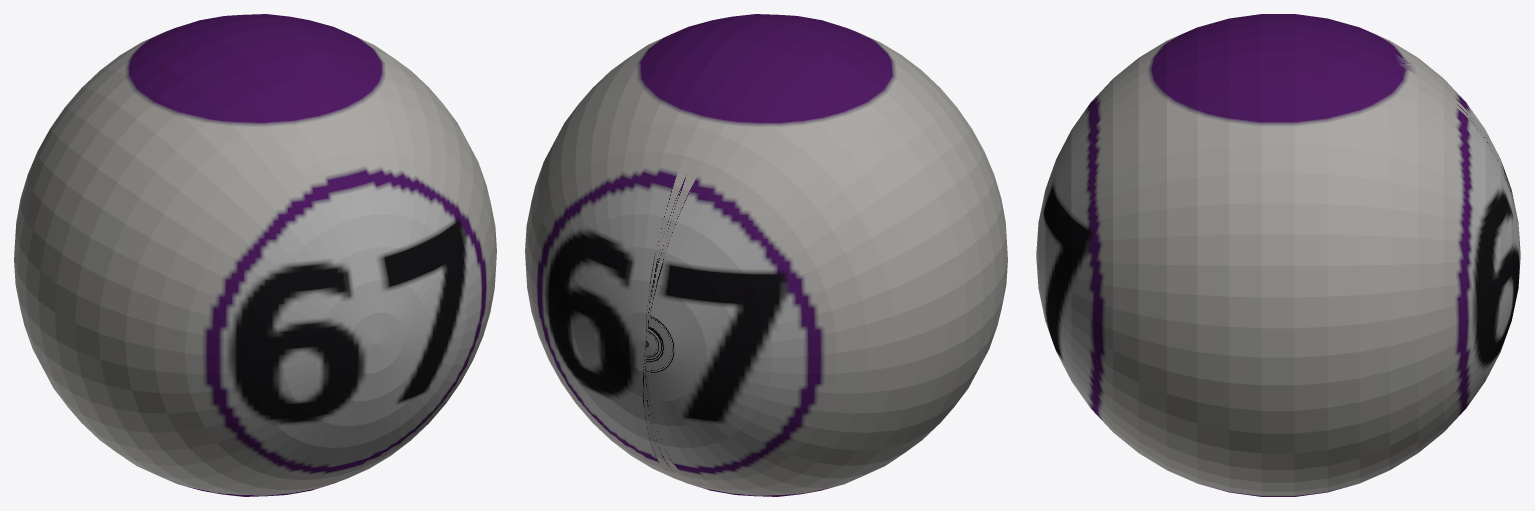
3 views of the same model, side by side, from view 1: azimuth 30°, elevation 25°; view 2: azimuth 150°, elevation 25°; view 3: azimuth 270°, elevation 25° (orthographic).
Visible parts, largest first — view 1: geometry_0; view 2: geometry_0; view 3: geometry_0.
Boxes of the visible parts, x1=… form: geometry_0: x1=14, y1=14, x2=496, y2=496; geometry_0: x1=525, y1=14, x2=1007, y2=496; geometry_0: x1=1036, y1=14, x2=1520, y2=496.
Size of the model in its own units: 0.0599 by 0.0599 by 0.06.
Materials: 1 (1 with a texture image).
